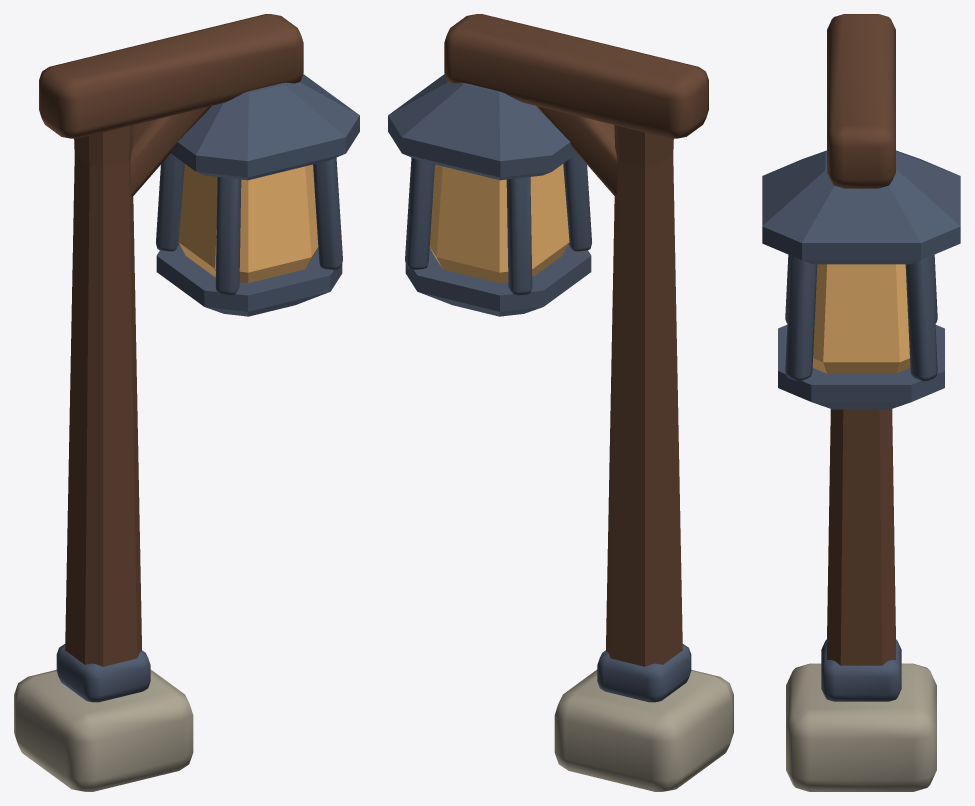
The model's file is DEC_Lamp_Wood_A.fbx.
3 renders of one model, left to right at view 1: azimuth 30°, elevation 25°; view 2: azimuth 150°, elevation 25°; view 3: azimuth 270°, elevation 25°, orthographic. The views are drawn at different scales.
Parts seen in each view (by area): view 1: DEC_Lamp_Wood_A_LOD0; view 2: DEC_Lamp_Wood_A_LOD0; view 3: DEC_Lamp_Wood_A_LOD0.
Boxes of the visible parts, <box> form: DEC_Lamp_Wood_A_LOD0: <box>14,14,359,791</box>; DEC_Lamp_Wood_A_LOD0: <box>388,14,733,791</box>; DEC_Lamp_Wood_A_LOD0: <box>762,14,960,791</box>.
Size of what is drawn, in the model's own units: 1.11 by 2.57 by 0.63.
